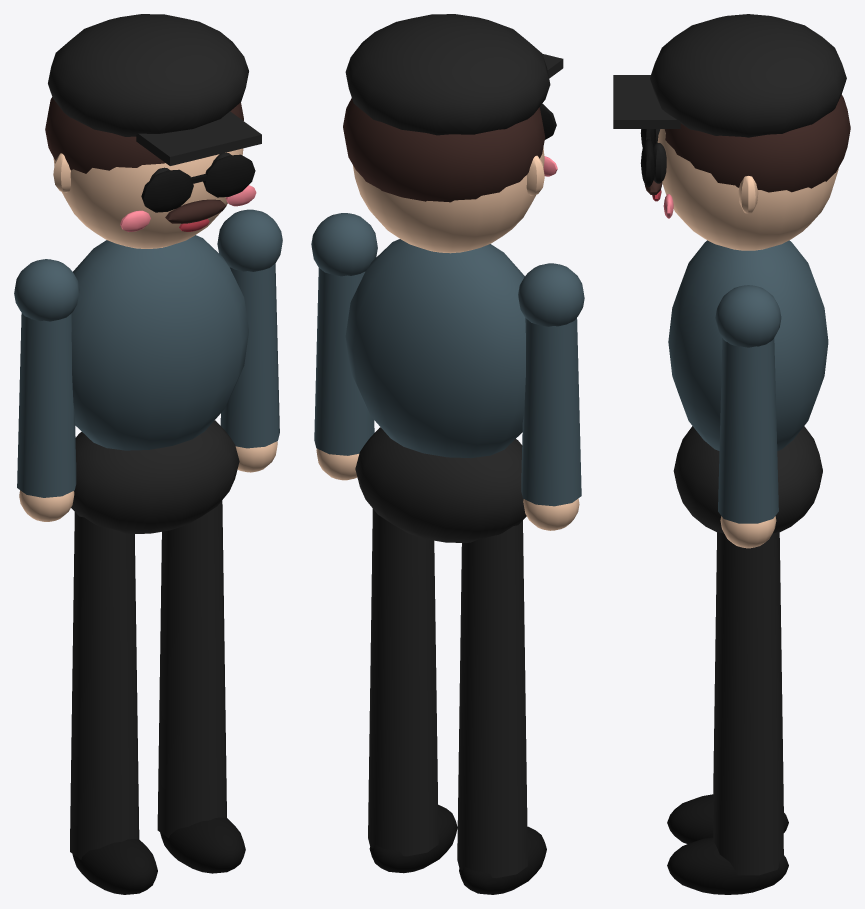
Rendered from hustle_crew.glb.
3 views of the same model, side by side, from view 1: azimuth 30°, elevation 25°; view 2: azimuth 150°, elevation 25°; view 3: azimuth 270°, elevation 25° (orthographic).
Visible parts, largest first — view 1: Body.005, Leg_R.005, Leg_L.005, Arm_R.005, Arm_L.005; view 2: Body.005, Leg_R.005, Leg_L.005, Arm_R.005, Arm_L.005; view 3: Body.005, Leg_L.005, Arm_L.005, Leg_R.005.
Part boxes in pixels (box(x1,y1,x2,y2)): Body.005: box(45, 14, 261, 533); Leg_R.005: box(70, 512, 157, 894); Leg_L.005: box(157, 500, 245, 873); Arm_R.005: box(14, 259, 79, 521); Arm_L.005: box(217, 209, 282, 472); Body.005: box(343, 14, 563, 542); Leg_R.005: box(457, 520, 546, 894); Leg_L.005: box(368, 508, 457, 873); Arm_R.005: box(518, 263, 584, 530); Arm_L.005: box(311, 213, 377, 480); Body.005: box(613, 14, 850, 533); Leg_L.005: box(667, 532, 788, 894); Arm_L.005: box(715, 285, 781, 548); Leg_R.005: box(667, 532, 788, 843).
Bounding box in the file's own units: 0.592 × 1.82 × 0.4674.
